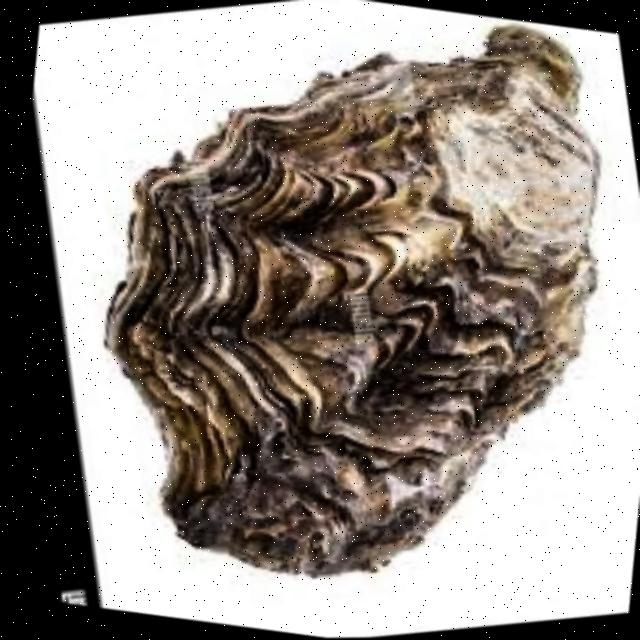Oyster-Closed: (106, 27, 600, 576)
